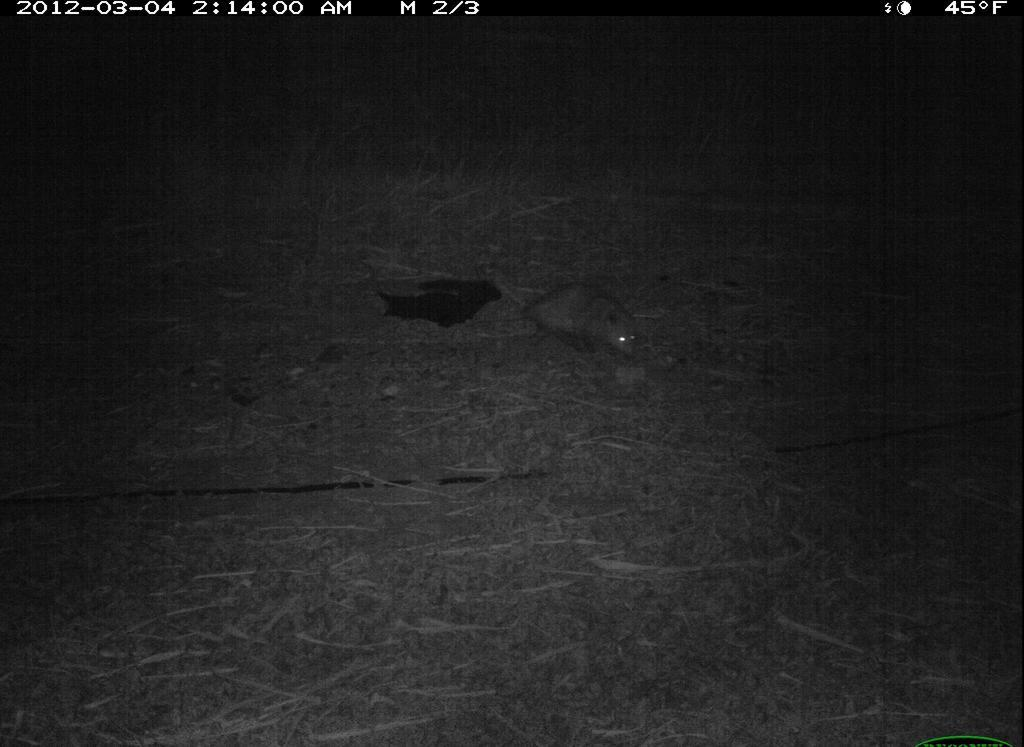opossum: (484, 274, 653, 376)
